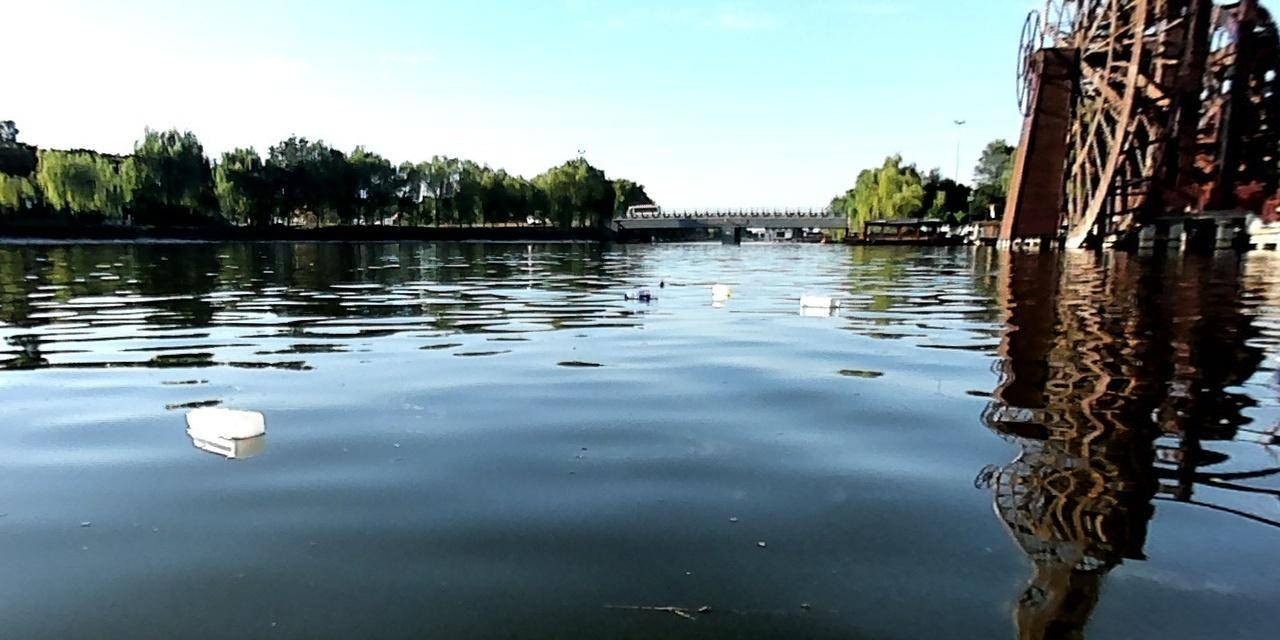bottle: (183, 400, 267, 440), (797, 290, 842, 308), (621, 284, 659, 300)
